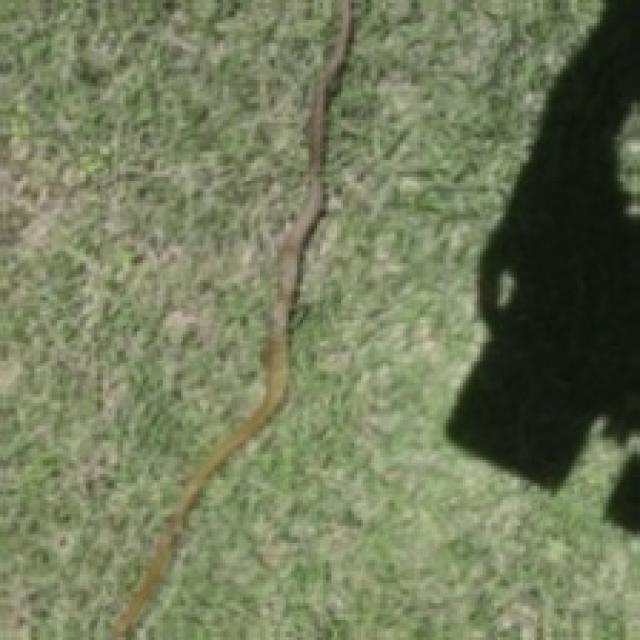reddish rat snake: (109, 0, 351, 637)
